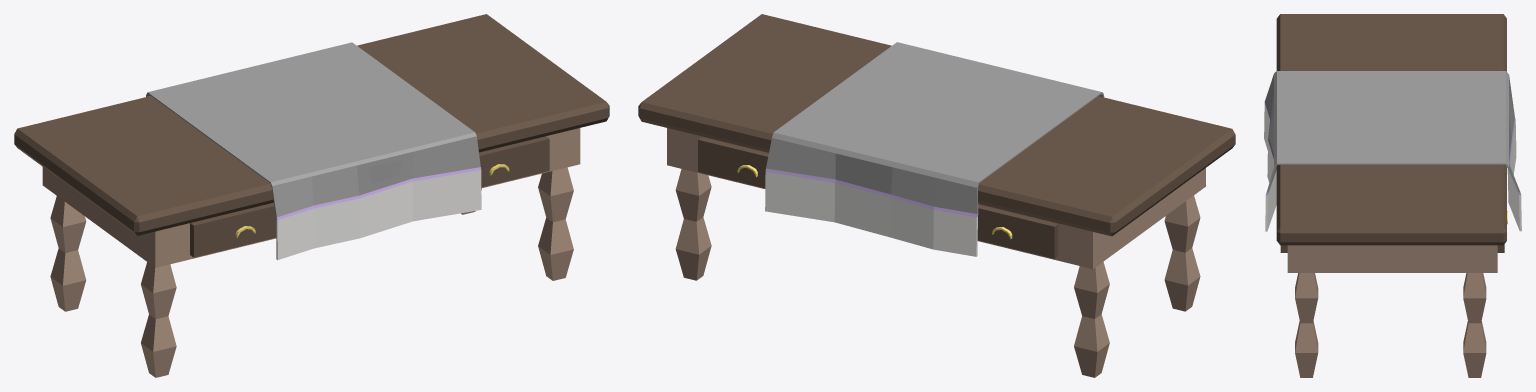
The model's file is Table_with_tablecloth_1.fbx.
3 views of the same model, side by side, from view 1: azimuth 30°, elevation 25°; view 2: azimuth 150°, elevation 25°; view 3: azimuth 270°, elevation 25° (orthographic). The views are drawn at different scales.
Parts seen in each view (by area): view 1: Table_with_tablecloth_1; view 2: Table_with_tablecloth_1; view 3: Table_with_tablecloth_1.
Boxes of the visible parts, x1,y1,x2,y2 form: Table_with_tablecloth_1: [14, 14, 609, 377]; Table_with_tablecloth_1: [638, 14, 1235, 377]; Table_with_tablecloth_1: [1264, 14, 1521, 377].
Bounding box in the file's own units: 281 × 142 × 102.
